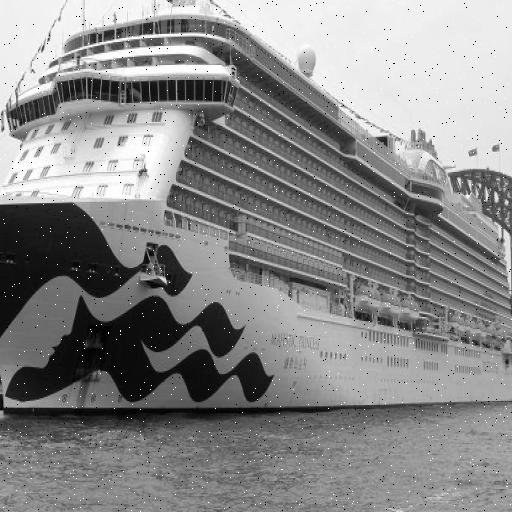cruises: (1, 1, 512, 430)
